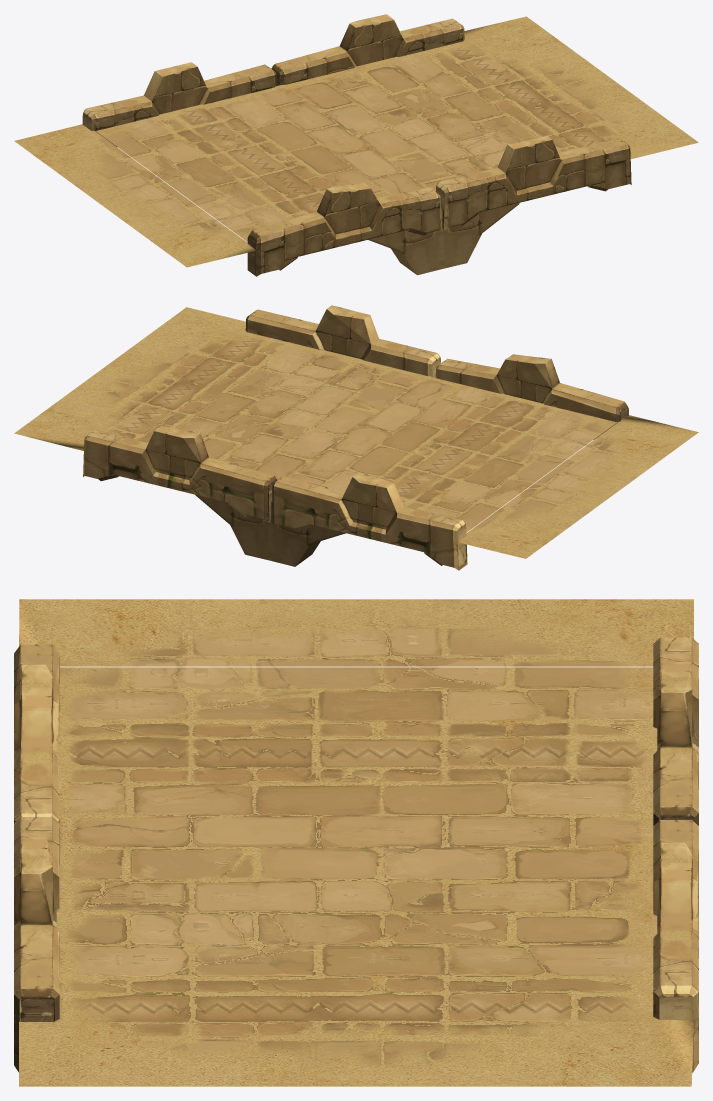
Rendered from build_bridge_A.FBX.
3 renders of one model, top to bottom at view 1: azimuth 30°, elevation 25°; view 2: azimuth 150°, elevation 25°; view 3: azimuth 270°, elevation 25°, orthographic. The views are drawn at different scales.
Parts seen in each view (by area): view 1: build_bridge_A, build_bridge_A_edge; view 2: build_bridge_A, build_bridge_A_edge; view 3: build_bridge_A, build_bridge_A_edge.
Part boxes in pixels (x1,y1,x2,y2): build_bridge_A: (82,14,631,276); build_bridge_A_edge: (14,16,698,267); build_bridge_A: (83,305,628,570); build_bridge_A_edge: (14,307,698,558); build_bridge_A: (14,637,698,1072); build_bridge_A_edge: (19,599,693,1086).
Size of what is drawn, in the model's own units: 899 by 173 by 534.
